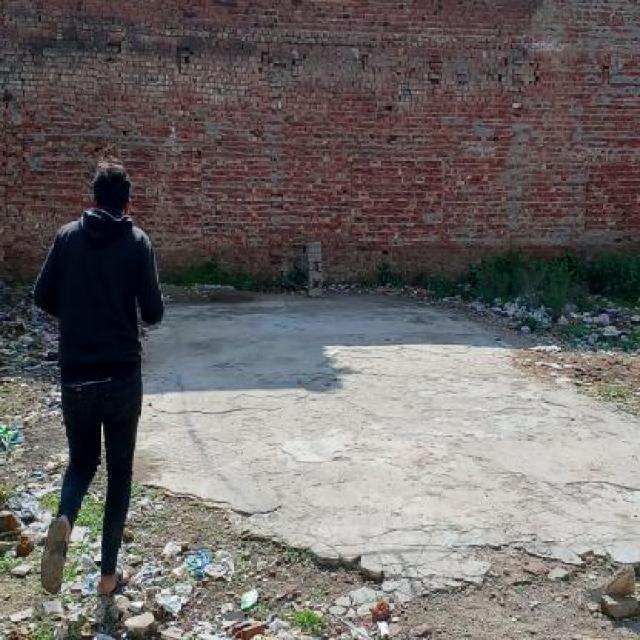garbage: (143, 546, 383, 640), (472, 293, 640, 349), (2, 314, 52, 483)
